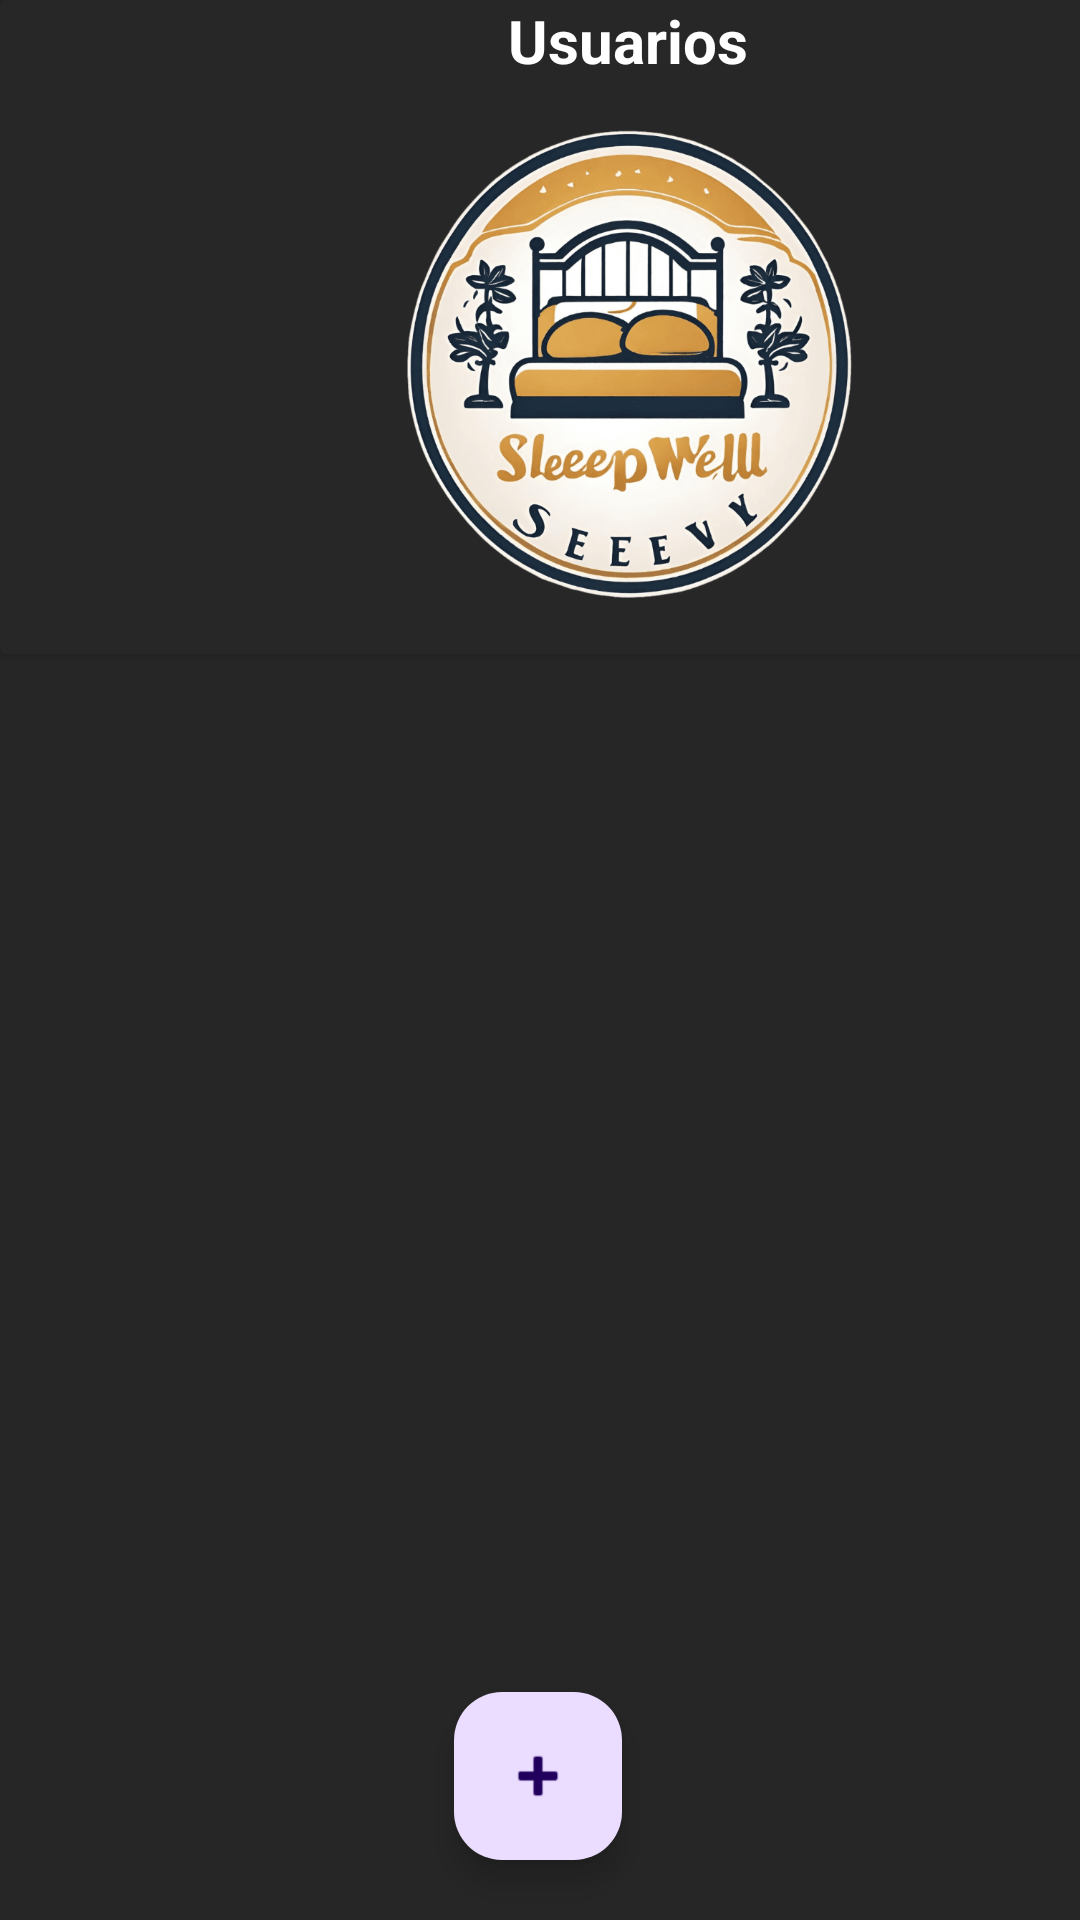

Named icons in this screenshot (1080*1920) and their centers, point (x, y):
add: point (538, 1776)
